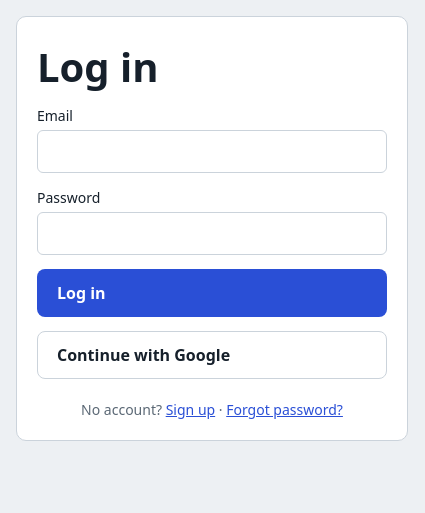
Test: LoginPage › shows a form error for wrong credentials
The image size is (425, 513).
Type "a@b.com" into the field labelled "Email".
click(212, 152); type("a@b.com")  # box [37, 130, 387, 173]
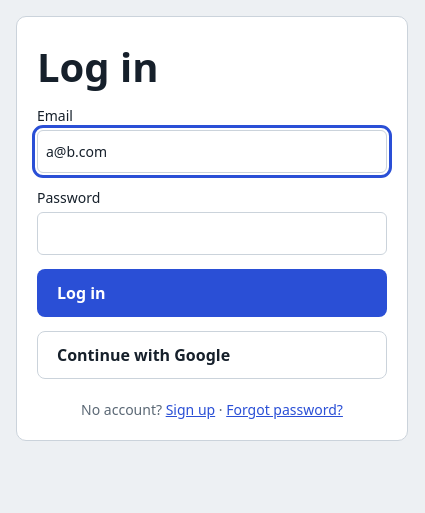
Type "wrong" into the password field labelled "Password".
click(212, 234); type("wrong")  # box [37, 212, 387, 255]
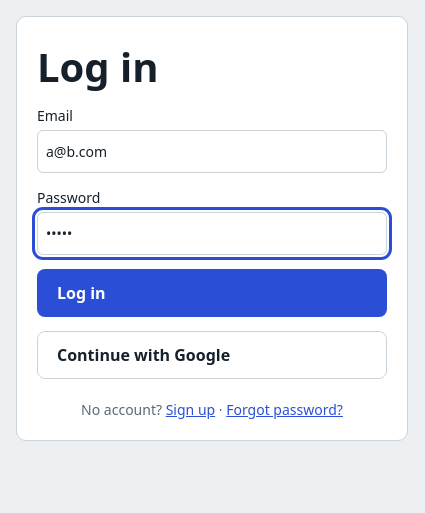
Click the button "Log in".
click(81, 293)  # box [37, 269, 387, 317]
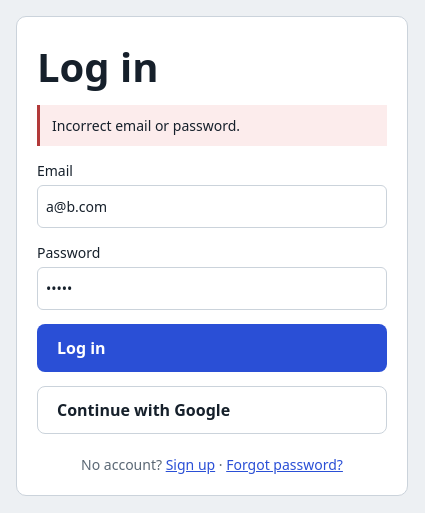
Expected: the text "Incorrect email or password." is shown, [37, 105, 387, 146]
